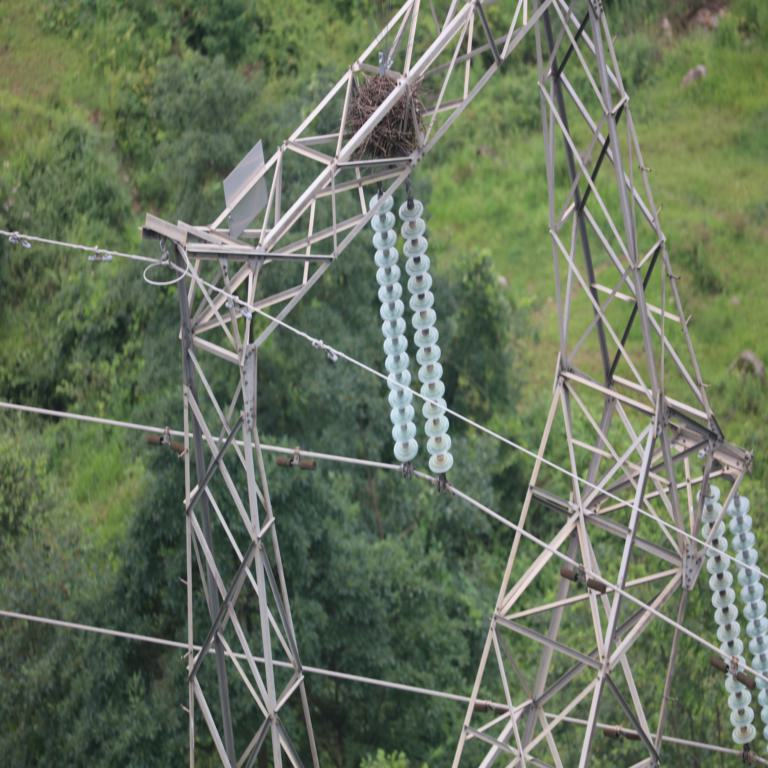nest: (347, 80, 415, 160)
